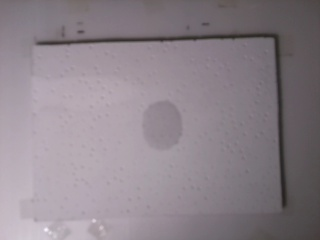Water_detected: (146, 102, 189, 155)
